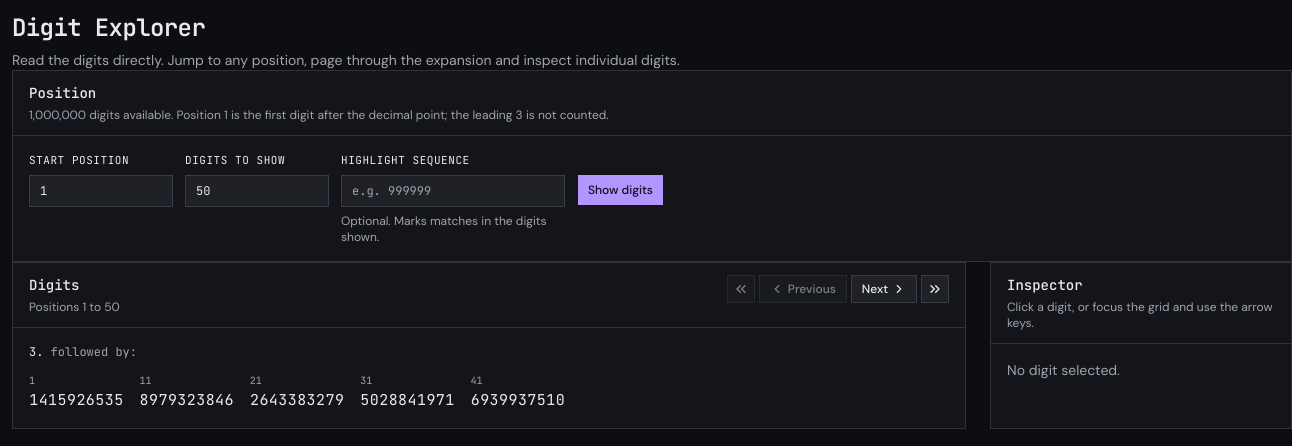
it: ExplorerView › pages forwards and backwards
This screenshot has width=1292, height=446.
Expected: the text "Positions 1 to 50" is shown, [29,298,120,314]
Expected: the button "Previous" is disabled, [759,274,847,302]
Click the button "Next" at (884, 288), box [851,274,917,302]
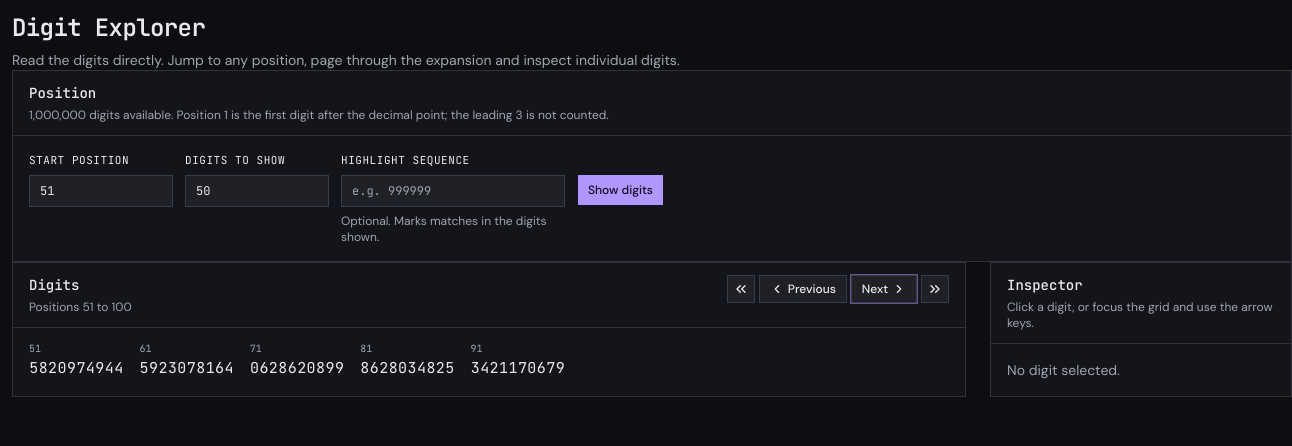
Expected: the text "Positions 51 to 100" is shown, [29,298,132,314]
Click the button "Previous" at (803, 288), box [759,274,847,302]
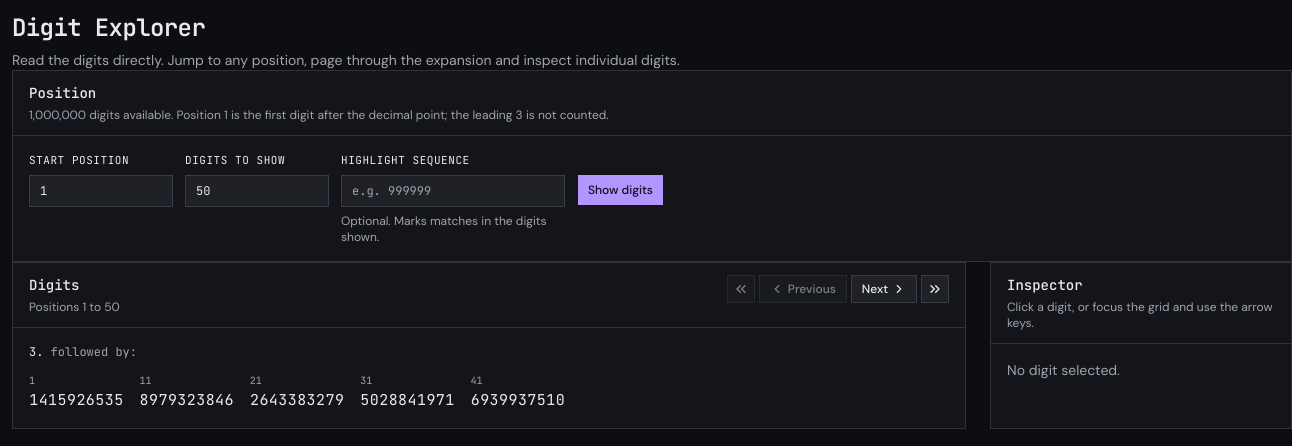
Expected: the text "Positions 1 to 50" is shown, [29,298,120,314]
